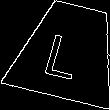L_N: (45, 23, 92, 80)
